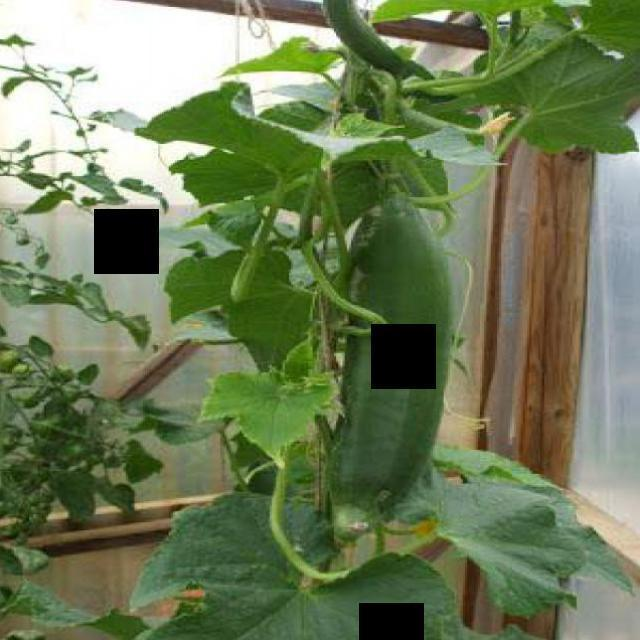cucumber: (330, 182, 450, 550)
